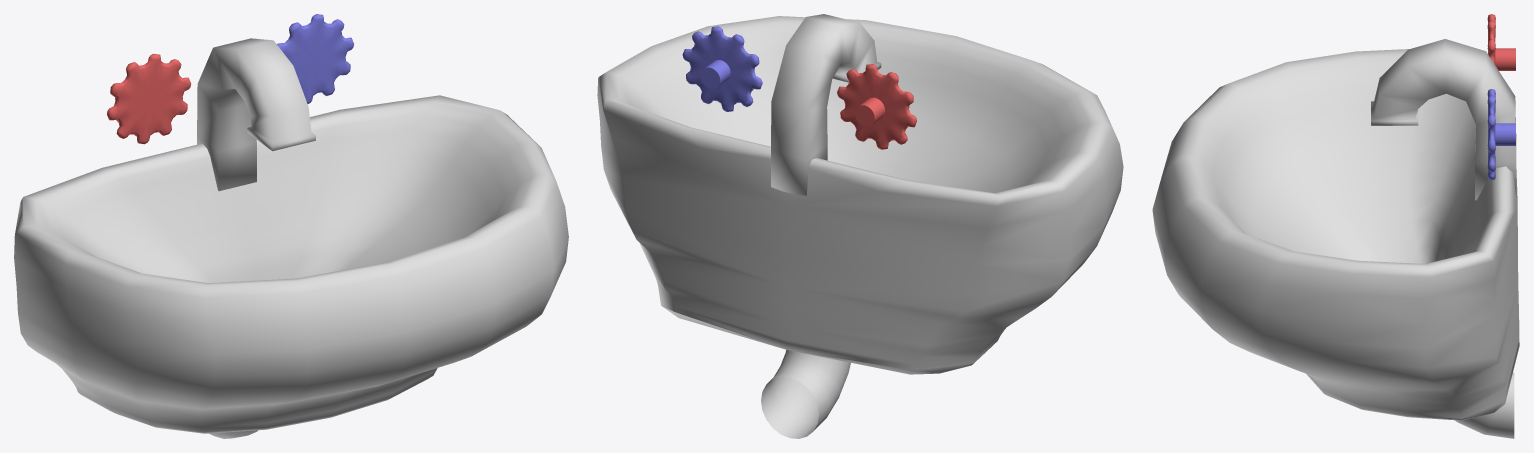
The model's file is WasTafel.fbx.
3 views of the same model, side by side, from view 1: azimuth 30°, elevation 25°; view 2: azimuth 150°, elevation 25°; view 3: azimuth 270°, elevation 25° (orthographic). The views are drawn at different scales.
Visible parts, largest first — view 1: WasTafel; view 2: WasTafel; view 3: WasTafel.
Part boxes in pixels (x1,y1,x2,y2): WasTafel: [14, 14, 568, 438]; WasTafel: [597, 14, 1123, 438]; WasTafel: [1152, 14, 1519, 438].
Bounding box in the file's own units: 0.7859 × 0.623 × 0.5328.
